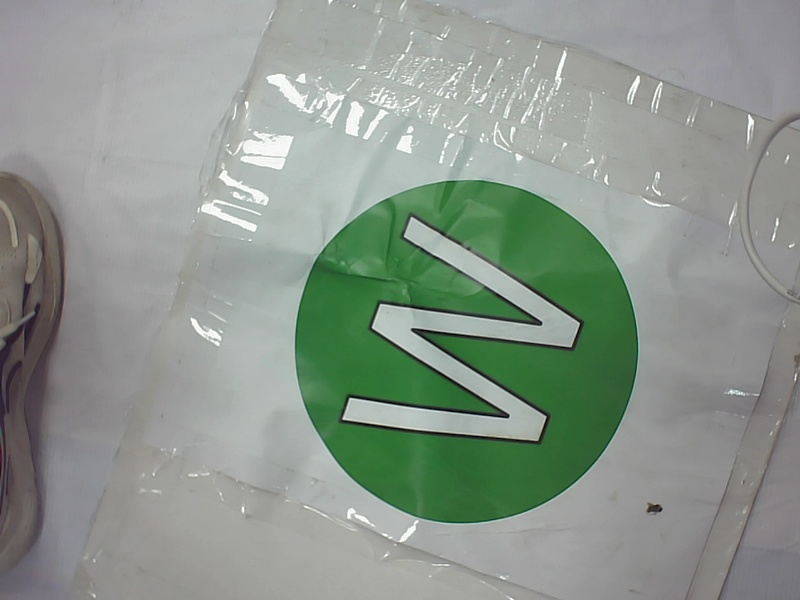areaB: (280, 176, 649, 537)
